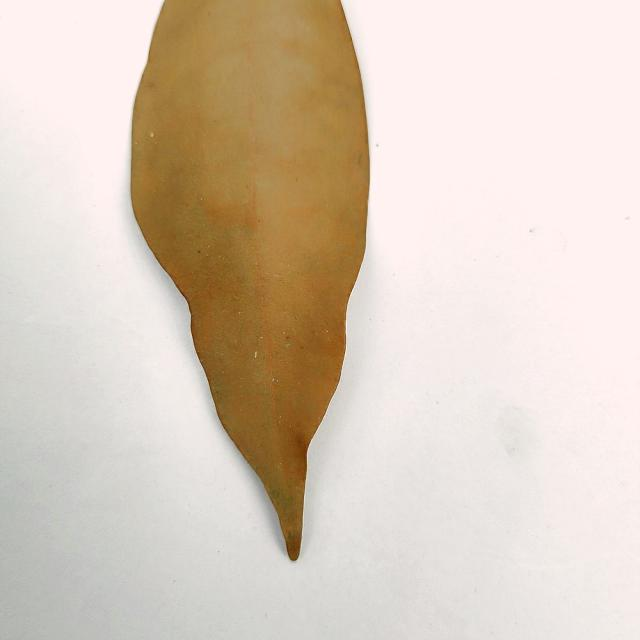Dry_Leaf-Lychee: (129, 0, 371, 563)
